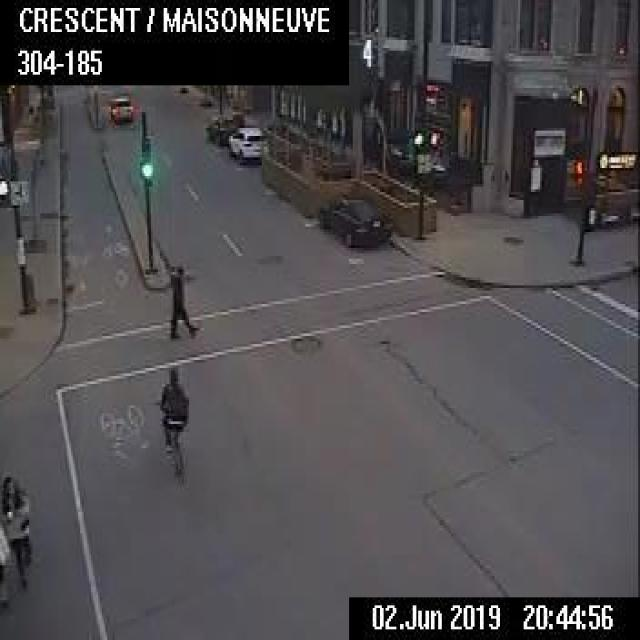cyclist: (156, 362, 188, 474)
pedestrian: (0, 472, 31, 589), (167, 261, 200, 336), (0, 523, 9, 605)
vehicle: (316, 187, 393, 248), (226, 124, 262, 161), (205, 111, 243, 143), (107, 90, 135, 122)
